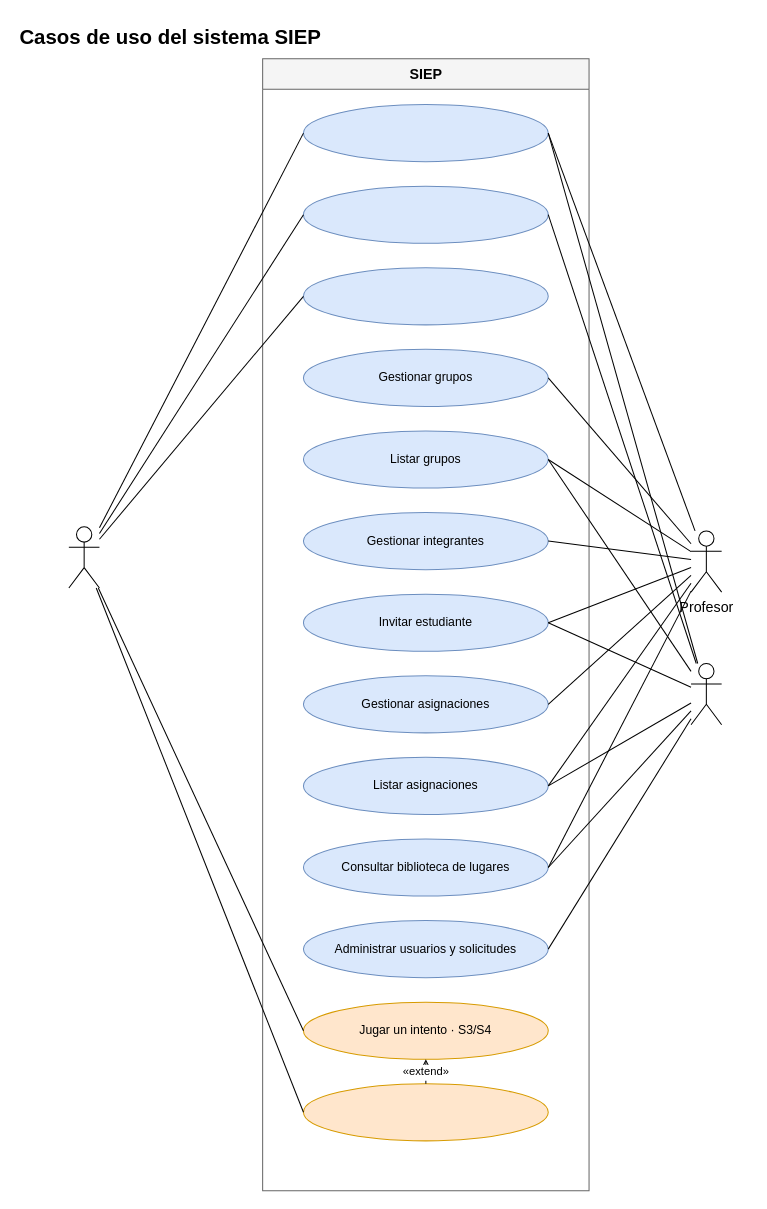
Image size: 767x1209. Some labels were removed from this diagram. The centre of each missing label's shape, as x and y in pixels:
Administrador: pixel 706 693
Cuenta propia: pixel 425 133
Estudiante: pixel 83 557
Gestionar consentimiento propio: pixel 425 296
Pausar intento · S3/S4: pixel 425 1112
Responder invitaciones: pixel 425 214
